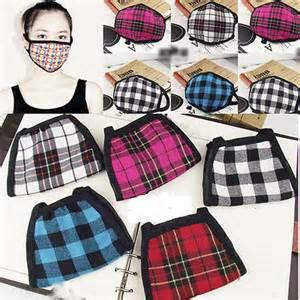OK: (25, 26, 73, 71)
